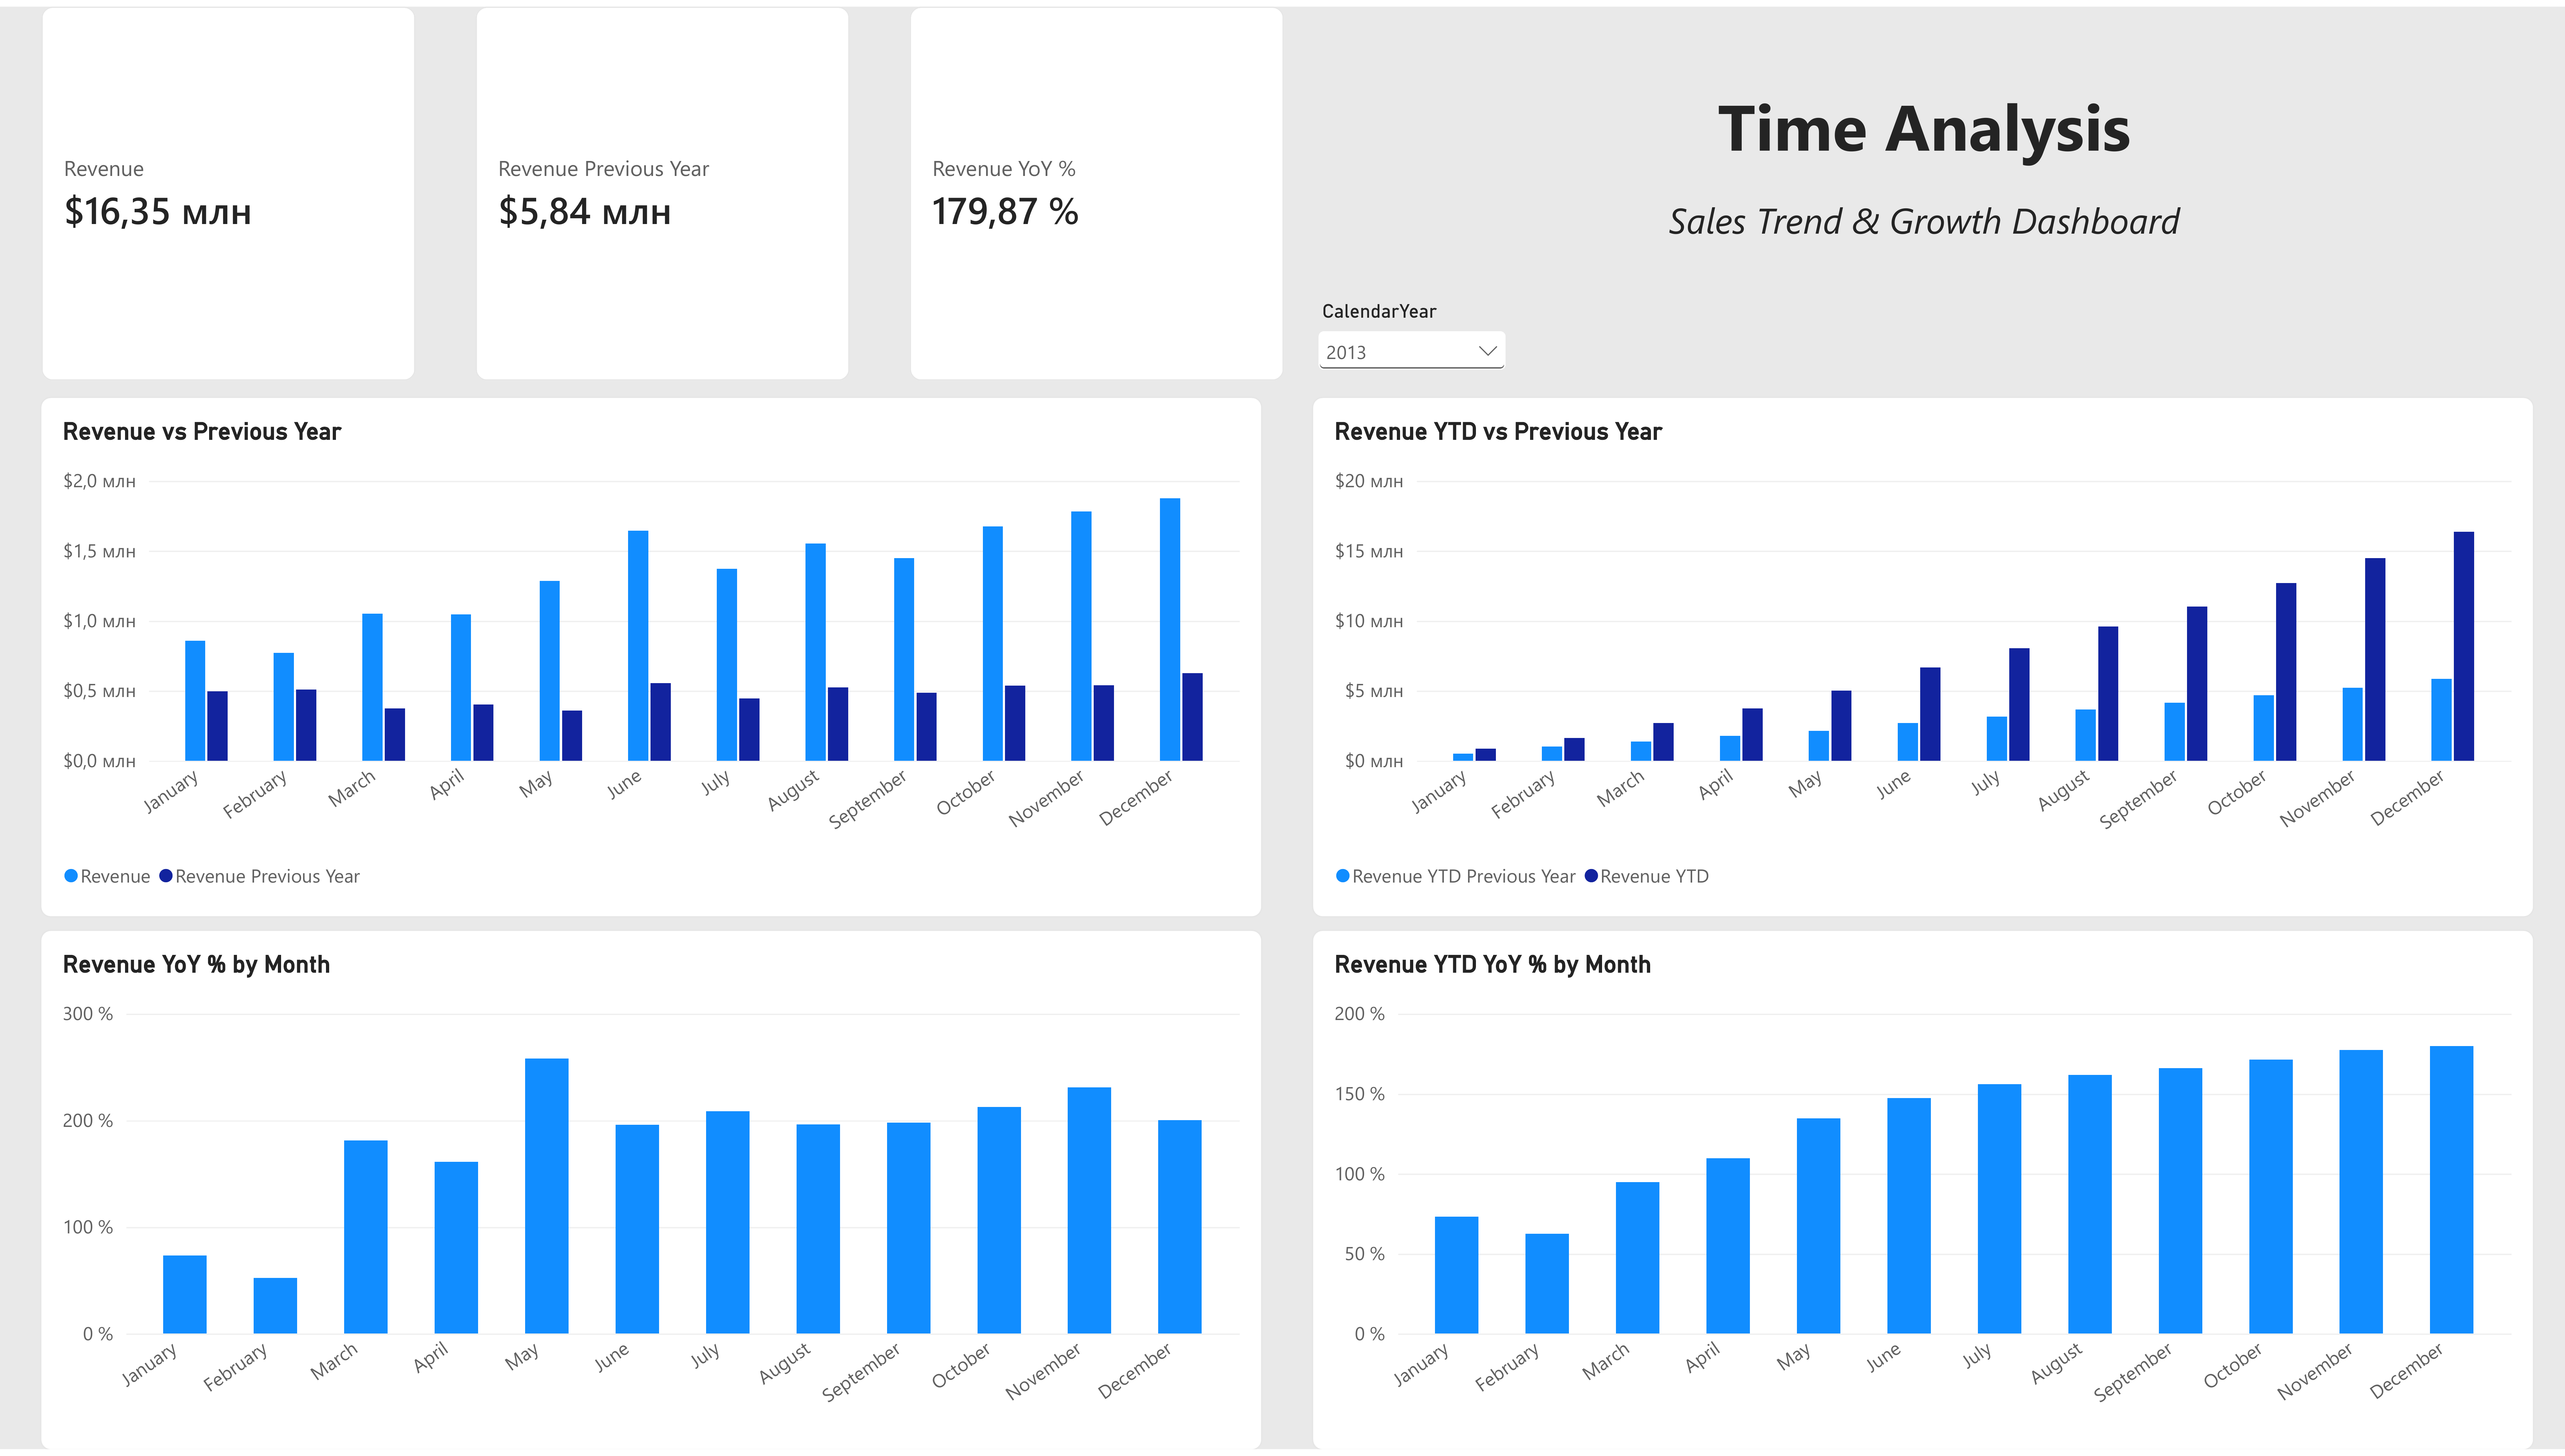

This screenshot's page, from the dashboard's own definition file:
{"tool":"powerbi","page":{"name":"Time Analysis","canvas":[1920,1080],"ordinal":4},"visuals":[{"type":"cardVisual","fields":{"Data":["FactInternetSales.Revenue"]},"box":[31.5,0,280,280],"z":0},{"type":"cardVisual","fields":{"Data":["FactInternetSales.Revenue Previous Year"]},"box":[356.2,0,280,280],"z":1000},{"type":"cardVisual","fields":{"Data":["FactInternetSales.Revenue YoY %"]},"box":[680.9,0,280,280],"z":2000},{"type":"slicer","fields":{"Values":["DimDate.CalendarYear"]},"box":[982.4,220.3,150,60],"z":3000},{"type":"clusteredColumnChart","title":"Revenue vs Previous Year","fields":{"Category":["DimDate.EnglishMonthName"],"Y":["FactInternetSales.Revenue","FactInternetSales.Revenue Previous Year"]},"box":[29.8,291.6,915,390],"z":4000},{"type":"columnChart","title":"Revenue YoY % by Month","fields":{"Category":["DimDate.EnglishMonthName"],"Y":["FactInternetSales.Revenue YoY %"]},"box":[29.8,690.8,915,390],"z":5000},{"type":"clusteredColumnChart","title":"Revenue YTD vs Previous Year","fields":{"Category":["DimDate.EnglishMonthName"],"Y":["FactInternetSales.Revenue YTD Previous Year","FactInternetSales.Revenue YTD"]},"box":[982.4,291.6,915,390],"z":6000},{"type":"columnChart","title":"Revenue YTD YoY % by Month","fields":{"Category":["DimDate.EnglishMonthName"],"Y":["FactInternetSales.Revenue YTD YoY %"]},"box":[982.4,690.8,915,390],"z":6001},{"type":"textbox","box":[960.8,56.3,959.2,84.5],"z":6002},{"type":"textbox","box":[960.8,140.8,959.2,63],"z":6003}]}

Visuals, with their boxes in screenshot pixels (x1, y1, x2, y2), scaled from the page's 1920x1080 canvas onto the 2565x1456 screenshot:
cardVisual - FactInternetSales.Revenue: <region>42, 0, 416, 378</region>
cardVisual - FactInternetSales.Revenue Previous Year: <region>476, 0, 850, 378</region>
cardVisual - FactInternetSales.Revenue YoY %: <region>910, 0, 1284, 378</region>
slicer - DimDate.CalendarYear: <region>1312, 297, 1513, 378</region>
"Revenue vs Previous Year" clusteredColumnChart: <region>40, 393, 1262, 919</region>
"Revenue YoY % by Month" columnChart: <region>40, 931, 1262, 1456</region>
"Revenue YTD vs Previous Year" clusteredColumnChart: <region>1312, 393, 2535, 919</region>
"Revenue YTD YoY % by Month" columnChart: <region>1312, 931, 2535, 1456</region>
textbox: <region>1284, 76, 2565, 190</region>
textbox: <region>1284, 190, 2565, 275</region>
